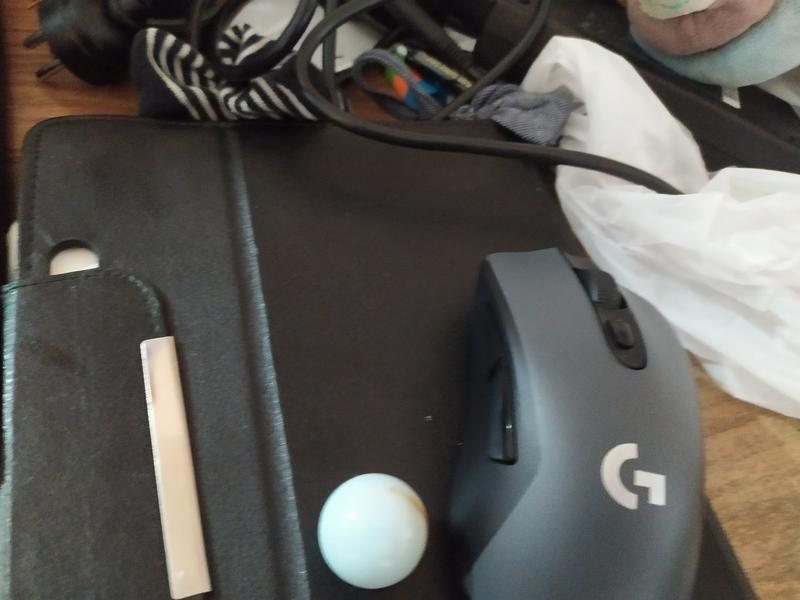Warning: (314, 469, 433, 591)
